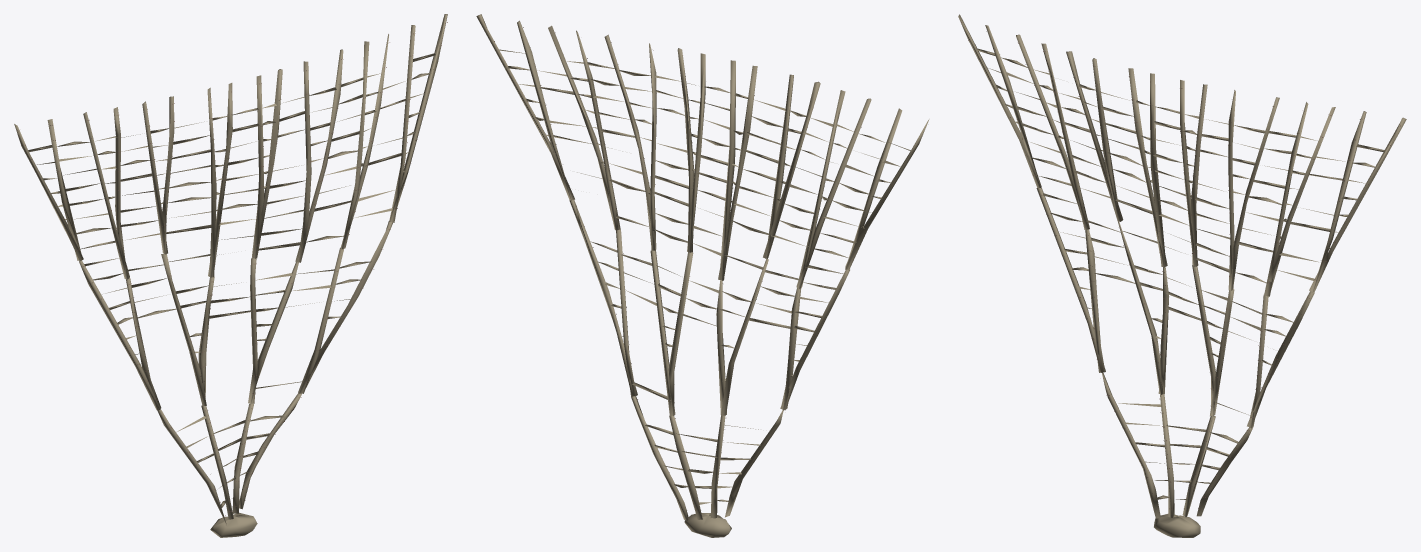
File: devonian-bryozoan.glb
3 views of the same model, side by side, from view 1: azimuth 30°, elevation 25°; view 2: azimuth 150°, elevation 25°; view 3: azimuth 330°, elevation 25° (orthographic).
Visible parts, largest first — view 1: devonian-bryozoan; view 2: devonian-bryozoan; view 3: devonian-bryozoan.
Boxes of the visible parts, box(x1,y1,x2,y2) form: devonian-bryozoan: box(14, 14, 447, 537); devonian-bryozoan: box(476, 14, 929, 537); devonian-bryozoan: box(958, 14, 1406, 537).
Size of the model in its own units: 0.8981 by 0.9 by 0.0847.
